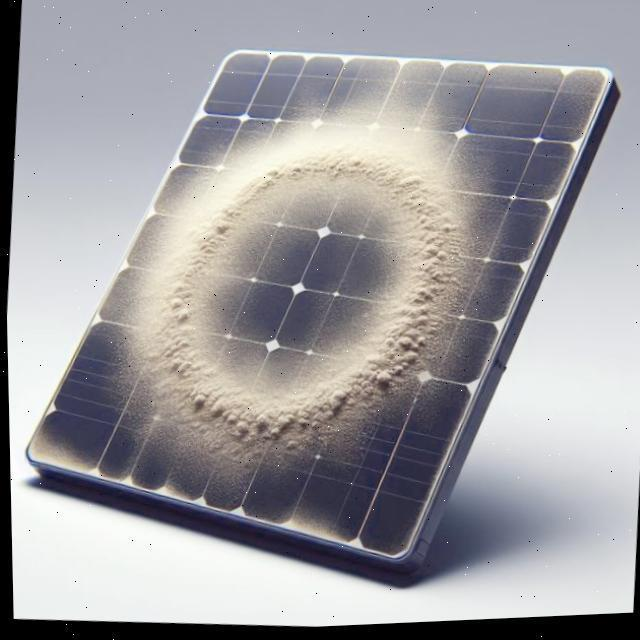Surface Contaminant: (28, 34, 574, 540), (19, 417, 115, 498), (272, 506, 352, 546)
